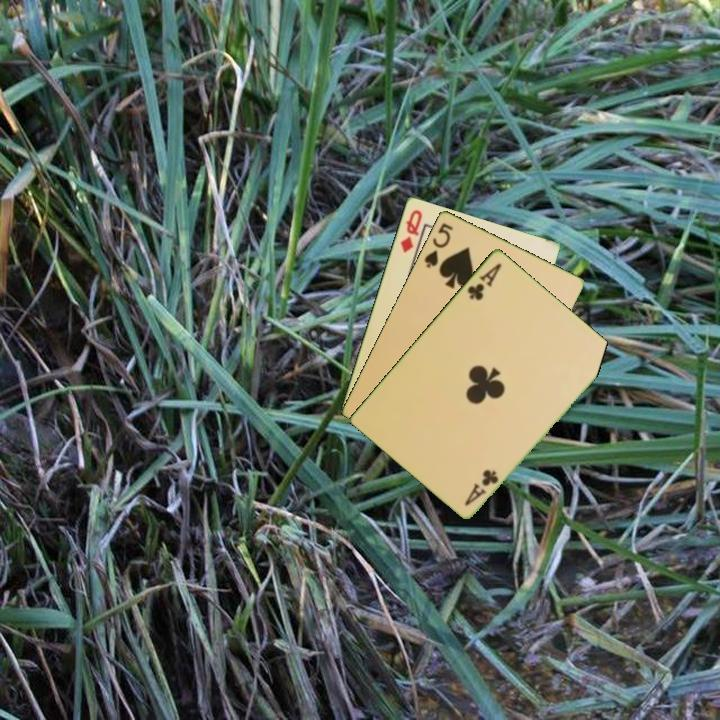5s: (420, 219, 456, 271)
Ac: (464, 259, 505, 303), (461, 465, 501, 508)
Qd: (396, 206, 425, 255)
